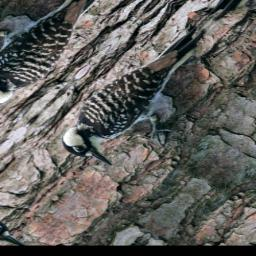Woodpecker: (41, 12, 256, 187)
